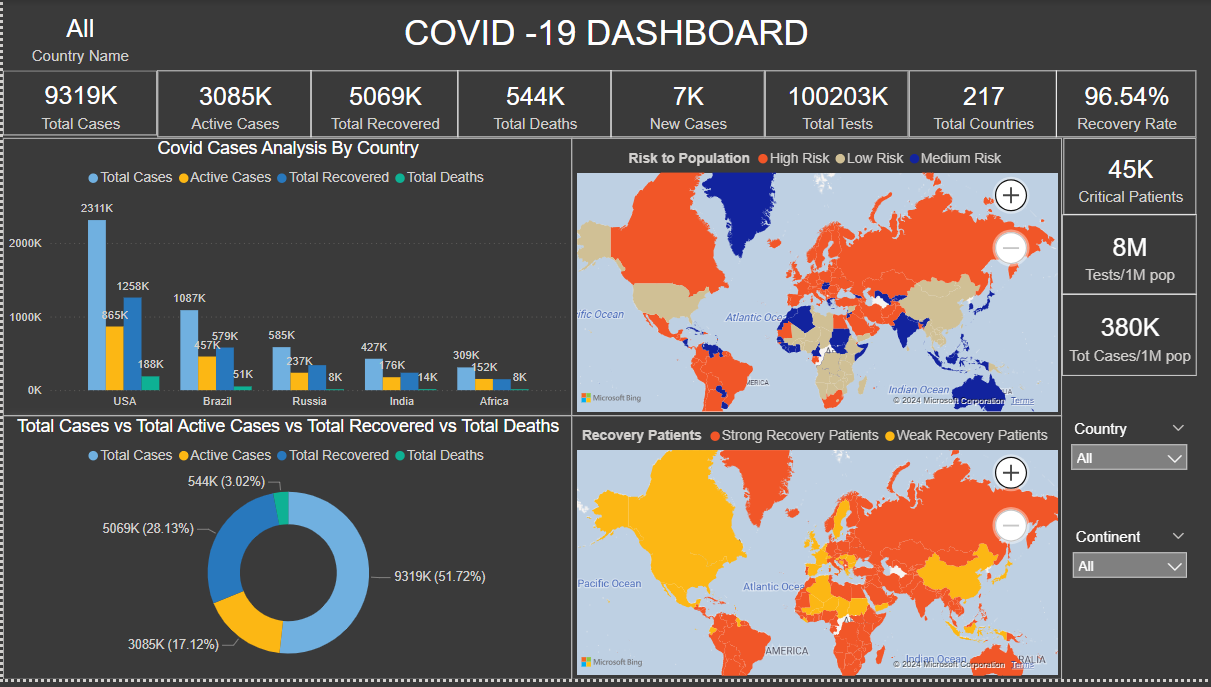

Layout of this report page (visuals, bound fields, positions):
{"tool":"powerbi","page":{"name":"Dashboard","canvas":[1280,720],"ordinal":0},"visuals":[{"type":"textbox","title":"COVID -19 DASHBOARD","box":[404.8,12.8,472,51.2],"z":0},{"type":"card","fields":{"Values":["Sum(Covid_data.TotalCases)"]},"box":[0,75.2,163.2,68.8],"z":1000},{"type":"card","fields":{"Values":["Sum(Covid_data.TotalRecovered)"]},"box":[326.4,75.2,156.8,70.4],"z":2000},{"type":"card","fields":{"Values":["Sum(Covid_data.Total Deaths)"]},"box":[481.6,75.2,163.2,70.4],"z":3000},{"type":"card","fields":{"Values":["Sum(Covid_data.ActiveCases)"]},"box":[163.2,75.2,163.2,70.4],"z":4000},{"type":"card","fields":{"Values":["Sum(Covid_data.New Cases)"]},"box":[644.8,75.2,163.2,70.4],"z":5000},{"type":"card","fields":{"Values":["Sum(Covid_data.Total Tests)"]},"box":[808,75.2,152,70.4],"z":6000},{"type":"card","fields":{"Values":["Count(Covid_data.Country)"]},"box":[960,75.2,156.8,70.4],"z":7000},{"type":"card","fields":{"Values":["Avg(Covid_data.PopulationImmunity)"]},"box":[1116.6,74.8,163.8,71.6],"z":8000},{"type":"clusteredColumnChart","title":"Covid Cases Analysis By Country","fields":{"Category":["Covid_data.Country"],"Y":["Sum(Covid_data.Total Cases)","Sum(Covid_data.Active Cases)","Sum(Covid_data.Total Recovered)","Sum(Covid_data.Total Deaths)"]},"box":[0,145.6,603.2,294.4],"z":9000},{"type":"donutChart","title":"Total Cases vs Total Active Cases vs Total Recovered vs Total Deaths","fields":{"Y":["Sum(Covid_data.Total Cases)","Sum(Covid_data.Active Cases)","Sum(Covid_data.Total Recovered)","Sum(Covid_data.Total Deaths)"]},"box":[0,440,603.2,280],"z":11000},{"type":"filledMap","fields":{"Category":["Covid_data.Country"],"Series":["Covid_data.RisktoPopulation"]},"box":[603.2,145.6,520,294.4],"z":12000},{"type":"filledMap","fields":{"Category":["Covid_data.Country"],"Series":["Covid_data.RecoveryPatients"]},"box":[603.2,440,520,280],"z":13000},{"type":"slicer","fields":{"Values":["Covid_data.Country"]},"box":[1123,440.6,157.5,100.2],"z":14000},{"type":"card","fields":{"Values":["Sum(Covid_data.Critical Patients)"]},"box":[1124.6,146.3,155.9,81.1],"z":15000},{"type":"card","fields":{"Values":["Sum(Covid_data.Tests/1M pop)"]},"box":[1123,227.5,157.5,84.3],"z":16000},{"type":"card","fields":{"Values":["Sum(Covid_data.Tot Cases/1M pop)"]},"box":[1123,311.8,157.5,85.9],"z":17000},{"type":"slicer","fields":{"Values":["Covid_data.Continent"]},"box":[1124.6,555.1,155.9,90.7],"z":18000},{"type":"card","fields":{"Values":["Covid_data.Country Card"]},"box":[0,1.6,163.2,73.6],"z":19000}]}

Visuals, with their boxes in screenshot pixels (x1, y1, x2, y2), scaled from the page's 1280x720 canvas onto the 1211x687 screenshot:
"COVID -19 DASHBOARD" textbox: <box>383,12,830,61</box>
card - Sum(Covid_data.TotalCases): <box>0,72,154,137</box>
card - Sum(Covid_data.TotalRecovered): <box>309,72,457,139</box>
card - Sum(Covid_data.Total Deaths): <box>456,72,610,139</box>
card - Sum(Covid_data.ActiveCases): <box>154,72,309,139</box>
card - Sum(Covid_data.New Cases): <box>610,72,764,139</box>
card - Sum(Covid_data.Total Tests): <box>764,72,908,139</box>
card - Count(Covid_data.Country): <box>908,72,1057,139</box>
card - Avg(Covid_data.PopulationImmunity): <box>1056,71,1210,140</box>
"Covid Cases Analysis By Country" clusteredColumnChart: <box>0,139,571,420</box>
"Total Cases vs Total Active Cases vs Total Recovered vs Total Deaths" donutChart: <box>0,420,571,686</box>
filledMap - Covid_data.Country x Covid_data.RisktoPopulation: <box>571,139,1063,420</box>
filledMap - Covid_data.Country x Covid_data.RecoveryPatients: <box>571,420,1063,686</box>
slicer - Covid_data.Country: <box>1062,420,1210,516</box>
card - Sum(Covid_data.Critical Patients): <box>1064,140,1210,217</box>
card - Sum(Covid_data.Tests/1M pop): <box>1062,217,1210,298</box>
card - Sum(Covid_data.Tot Cases/1M pop): <box>1062,298,1210,379</box>
slicer - Covid_data.Continent: <box>1064,530,1210,616</box>
card - Covid_data.Country Card: <box>0,2,154,72</box>
